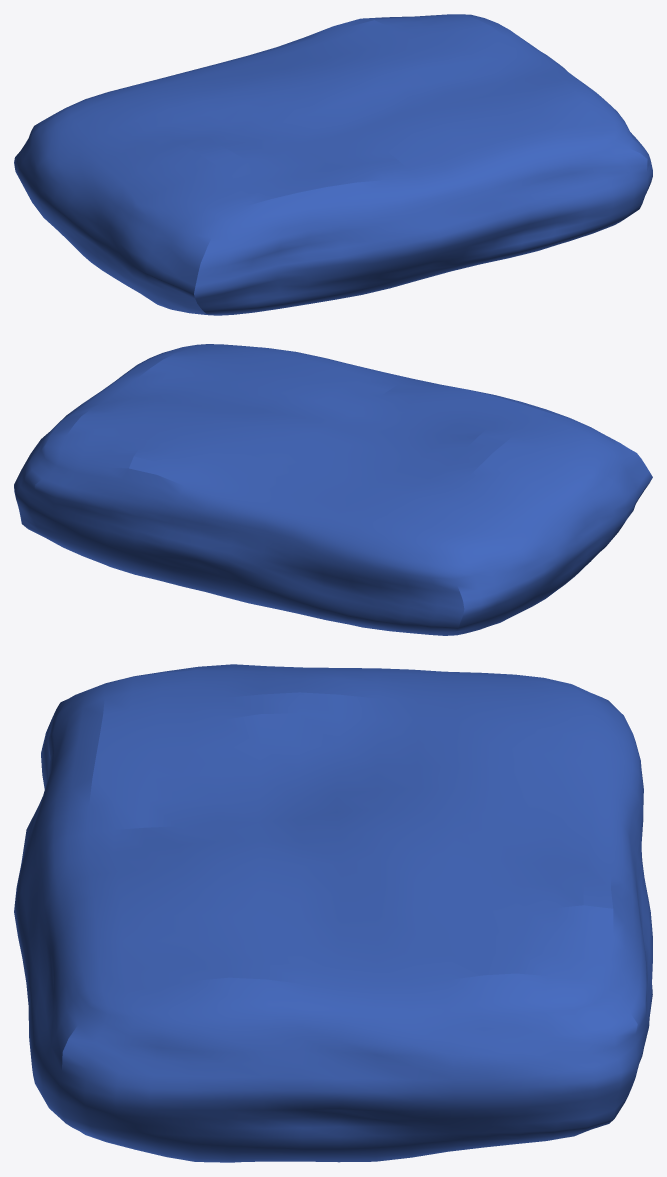
File: Travesseiro.fbx
The picture shows the model from 3 angles, top to bottom: view 1: azimuth 30°, elevation 25°; view 2: azimuth 150°, elevation 25°; view 3: azimuth 270°, elevation 25°; orthographic projection. The views are drawn at different scales.
Visible parts, largest first — view 1: Cubo; view 2: Cubo; view 3: Cubo.
Part boxes in pixels (left/top/right/bottom): Cubo: left=14, top=14, right=652, bottom=315; Cubo: left=14, top=344, right=652, bottom=635; Cubo: left=14, top=664, right=652, bottom=1162.
Size of the model in its own units: 3337 by 877 by 2329.
